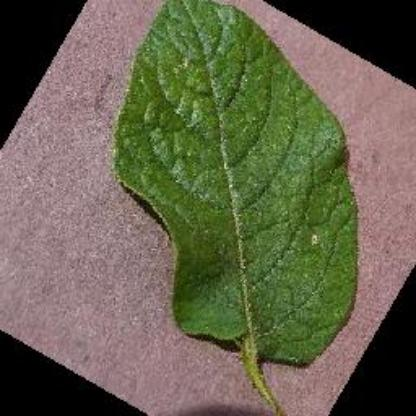Healthy-plant: (107, 1, 384, 401)
